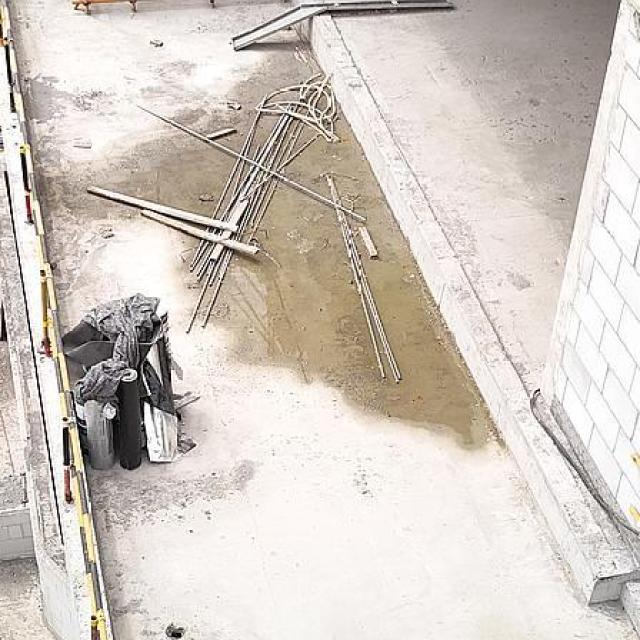edge_guardrail: (0, 0, 110, 640)
